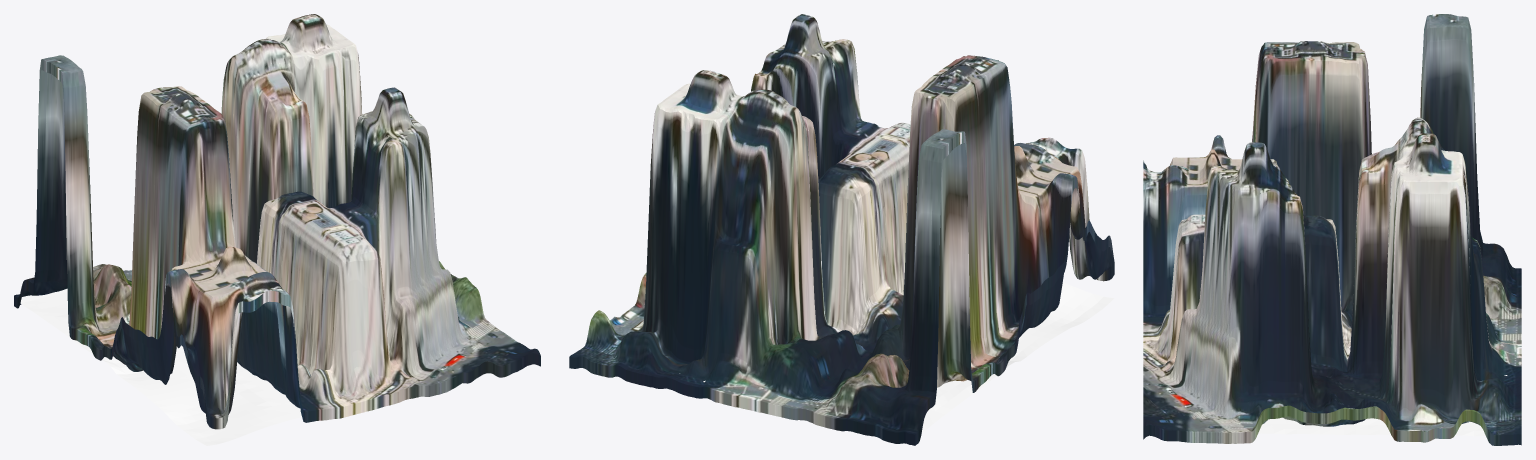
3 renders of one model, left to right at view 1: azimuth 30°, elevation 25°; view 2: azimuth 150°, elevation 25°; view 3: azimuth 270°, elevation 25°, orthographic. The views are drawn at different scales.
Visible parts, largest first — view 1: surface, ground; view 2: surface, ground; view 3: surface, ground.
Boxes of the visible parts, x1,y1,x2,y2 form: surface: (14, 14, 540, 429); ground: (20, 288, 301, 445); surface: (569, 14, 1114, 445); ground: (679, 282, 1114, 432); surface: (1143, 14, 1521, 445); ground: (1258, 346, 1507, 436).
Bounding box in the file's own units: 128 × 103 × 128.
2 materials, 1 textured.
